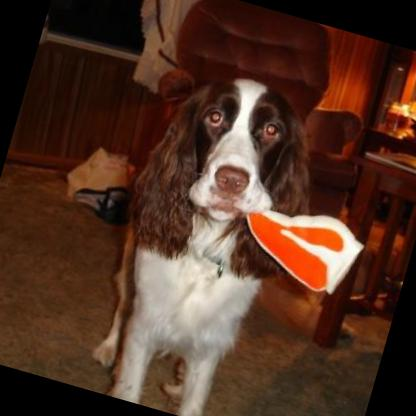English_springer: (73, 51, 341, 416)
